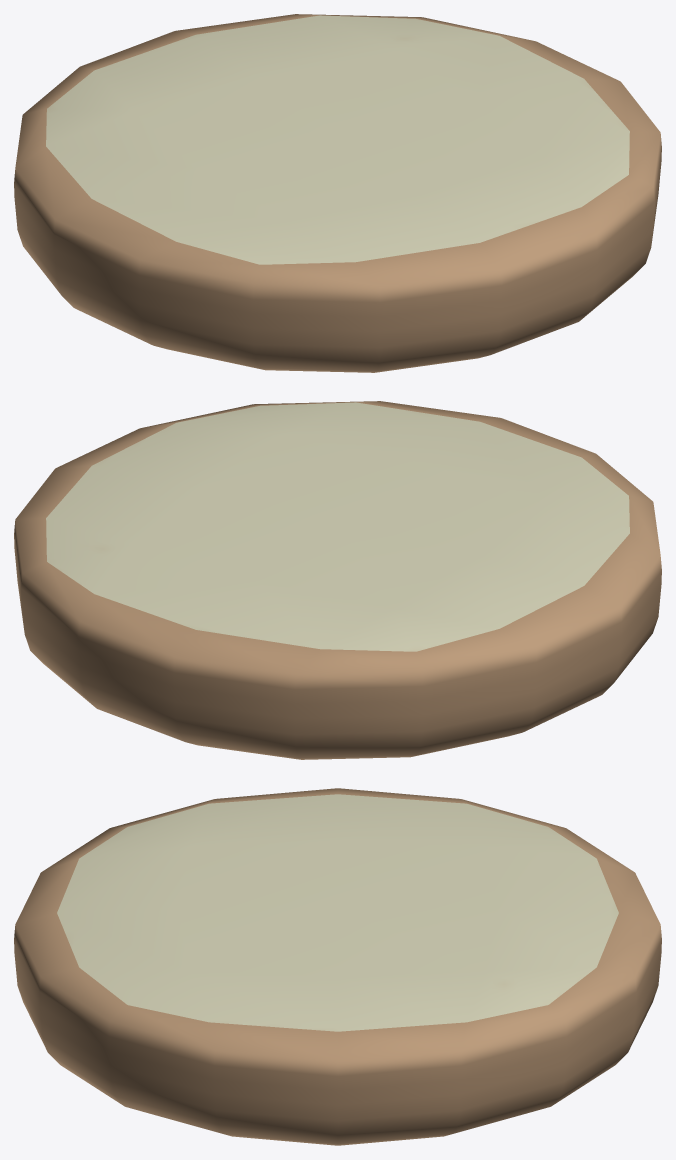
File: RecipeBun_bot_v05.obj
3 views of the same model, one above another, from view 1: azimuth 30°, elevation 25°; view 2: azimuth 150°, elevation 25°; view 3: azimuth 270°, elevation 25° (orthographic).
Parts seen in each view (by area): view 1: Recipebun_bot_v05; view 2: Recipebun_bot_v05; view 3: Recipebun_bot_v05.
Part boxes in pixels (bbox=[...]): Recipebun_bot_v05: bbox=[14, 14, 661, 372]; Recipebun_bot_v05: bbox=[14, 401, 661, 759]; Recipebun_bot_v05: bbox=[14, 788, 661, 1145].
Bounding box in the file's own units: 27.22 × 6.07 × 27.22.
